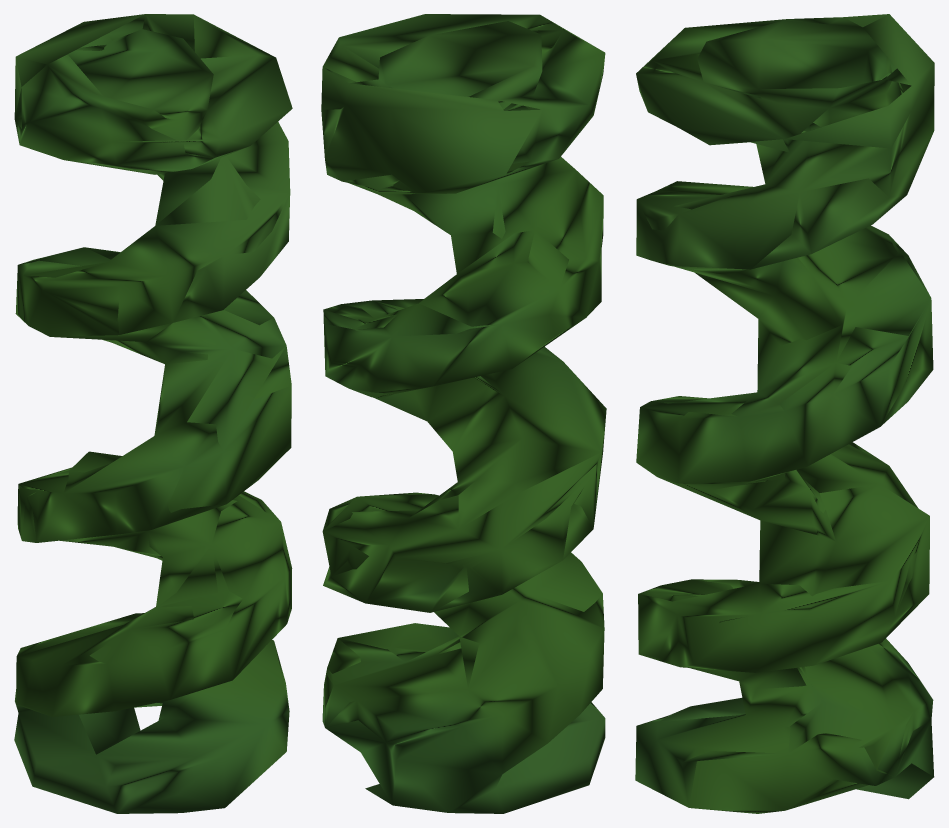
Rendered from gen3d-helix-lod1.glb.
3 views of the same model, side by side, from view 1: azimuth 30°, elevation 25°; view 2: azimuth 150°, elevation 25°; view 3: azimuth 270°, elevation 25° (orthographic). The views are drawn at different scales.
Parts seen in each view (by area): view 1: part_0; view 2: part_0; view 3: part_0.
Part boxes in pixels (x1,y1,x2,y2): part_0: (14,14,292,813); part_0: (321,14,606,813); part_0: (635,14,934,813).
Bounding box in the file's own units: 0.3734 × 0.9988 × 0.3751.
